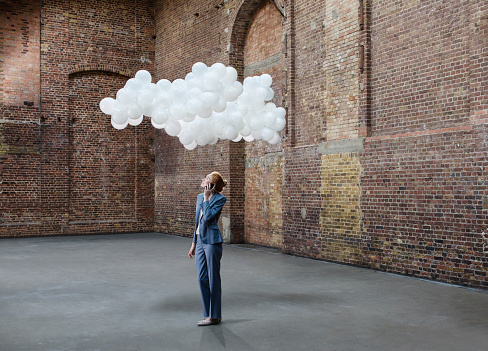em pe: (193, 164, 232, 326)
